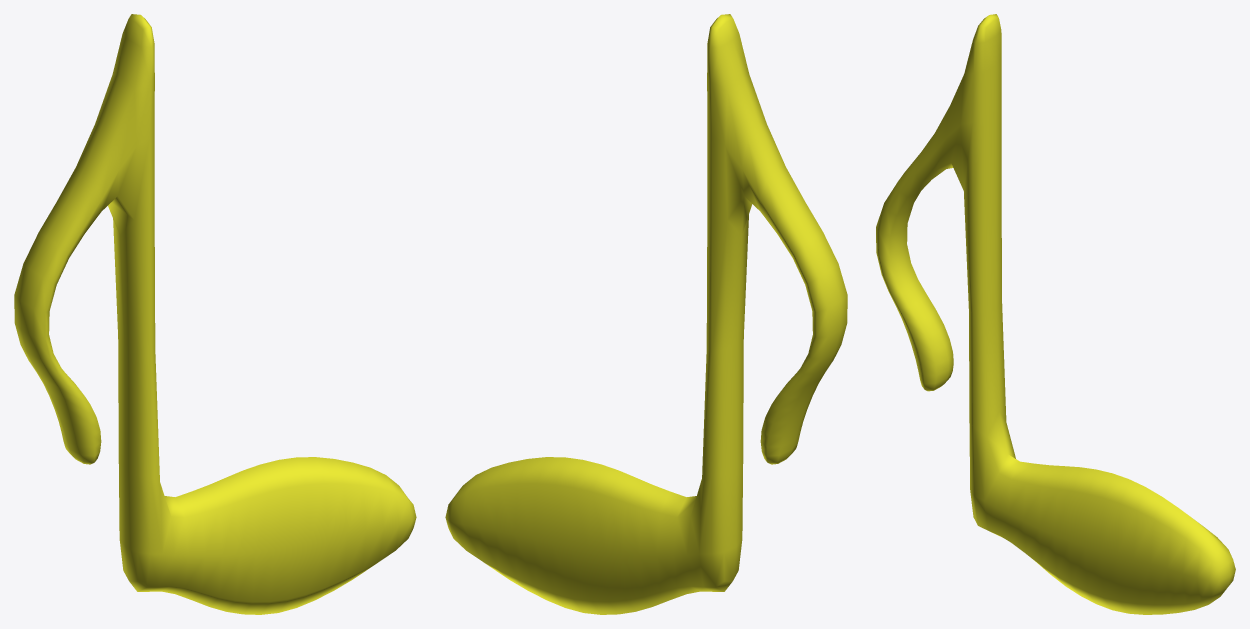
The model's file is uploads_files_2463307_Note+Eight.fbx.
3 views of the same model, side by side, from view 1: azimuth 30°, elevation 25°; view 2: azimuth 150°, elevation 25°; view 3: azimuth 330°, elevation 25° (orthographic). The views are drawn at different scales.
Parts seen in each view (by area): view 1: Plane; view 2: Plane; view 3: Plane.
Boxes of the visible parts, <box> form: Plane: <box>14,14,416,614</box>; Plane: <box>445,14,847,614</box>; Plane: <box>876,14,1235,614</box>.
Bounding box in the file's own units: 109 × 168 × 13.26.
